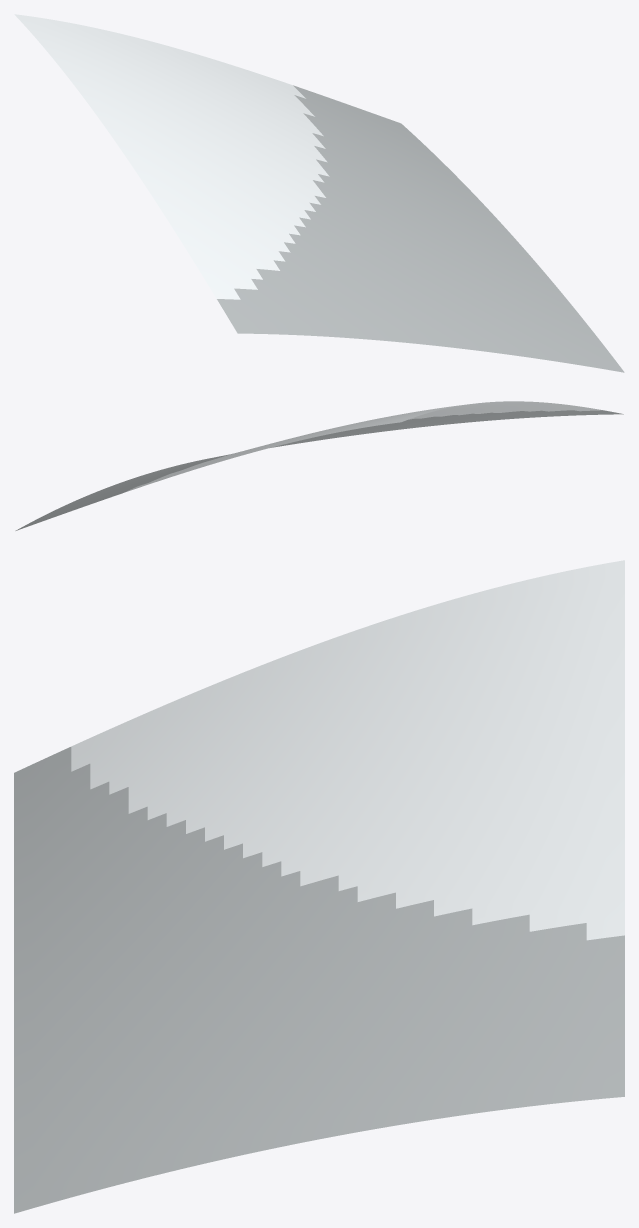
File: alpine-15-10.glb
3 renders of one model, top to bottom at view 1: azimuth 30°, elevation 25°; view 2: azimuth 150°, elevation 25°; view 3: azimuth 270°, elevation 25°, orthographic. The views are drawn at different scales.
Parts seen in each view (by area): view 1: alpine-15-10; view 2: alpine-15-10; view 3: alpine-15-10.
Part boxes in pixels (x1,y1,x2,y2): alpine-15-10: (14,14,624,372); alpine-15-10: (15,401,623,530); alpine-15-10: (14,560,624,1213).
Size of the model in its own units: 256 by 183 by 256.
2 materials, 2 textured.
